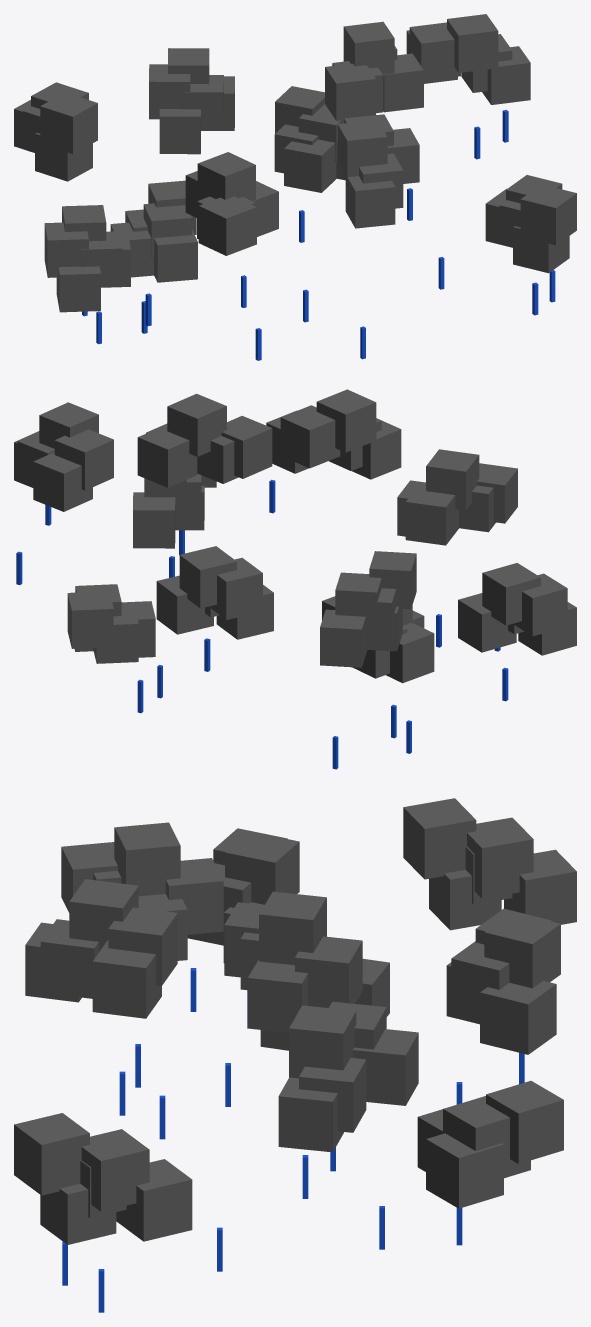
File: rain.glb
The picture shows the model from 3 angles, top to bottom: view 1: azimuth 30°, elevation 25°; view 2: azimuth 150°, elevation 25°; view 3: azimuth 270°, elevation 25°; orthographic projection. The views are drawn at different scales.
Parts seen in each view (by area): view 1: Cube.016, Cube.033, Cube.023, Cube.049, Cube.028, Cube.004, Cube.014, Cube.035, Cube.041, Cube.002; view 2: Cube.023, Cube.028, Cube.033, Cube.049, Cube.004, Cube.035, Cube.016, Cube.002, Cube.014, Cube.041; view 3: Cube.014, Cube.035, Cube.016, Cube.033, Cube.023, Cube.002, Cube.004, Cube.028, Cube.049, Cube.041.
Boxes of the visible parts, box(x1,y1,x2,y2) form: Cube.016: box(406, 14, 530, 104); Cube.033: box(338, 114, 419, 228); Cube.023: box(325, 21, 423, 120); Cube.049: box(44, 205, 130, 312); Cube.028: box(185, 152, 278, 255); Cube.004: box(149, 48, 234, 154); Cube.014: box(485, 175, 576, 273); Cube.035: box(14, 82, 97, 181); Cube.041: box(110, 180, 197, 282); Cube.002: box(274, 86, 345, 192); Cube.023: box(137, 393, 272, 487); Cube.028: box(397, 449, 517, 545); Cube.033: box(266, 389, 401, 479); Cube.049: box(458, 563, 576, 655); Cube.004: box(156, 546, 273, 639); Cube.035: box(320, 551, 416, 667); Cube.016: box(14, 402, 113, 511); Cube.002: box(67, 584, 155, 663); Cube.014: box(133, 474, 216, 548); Cube.041: box(322, 596, 434, 683); Cube.014: box(14, 1113, 192, 1244); Cube.035: box(403, 798, 576, 930); Cube.016: box(278, 1001, 418, 1152); Cube.033: box(25, 879, 177, 1018); Cube.023: box(224, 891, 362, 1032); Cube.002: box(417, 1080, 563, 1208); Cube.004: box(446, 908, 560, 1054); Cube.028: box(61, 822, 223, 960); Cube.049: box(187, 828, 299, 962); Cube.041: box(260, 958, 389, 1050).
Bounding box in the file's own units: 28.35 × 13.97 × 20.17.
